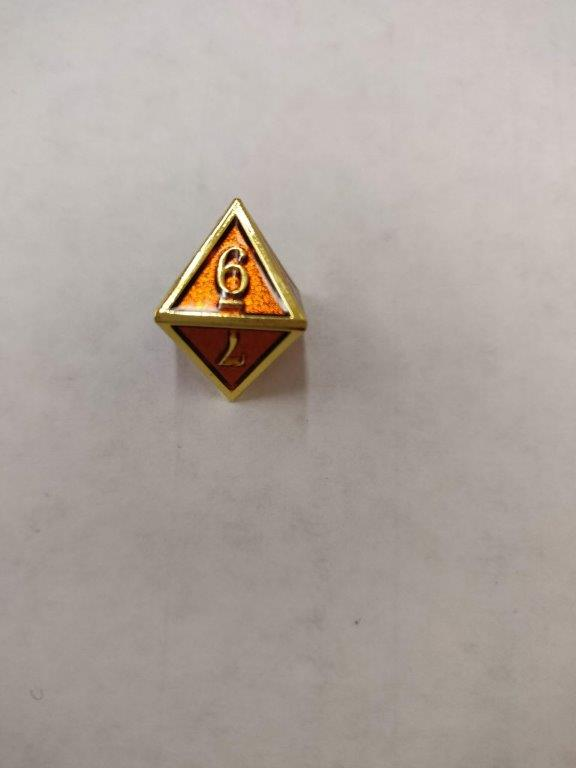d8-6: (154, 196, 310, 400)
